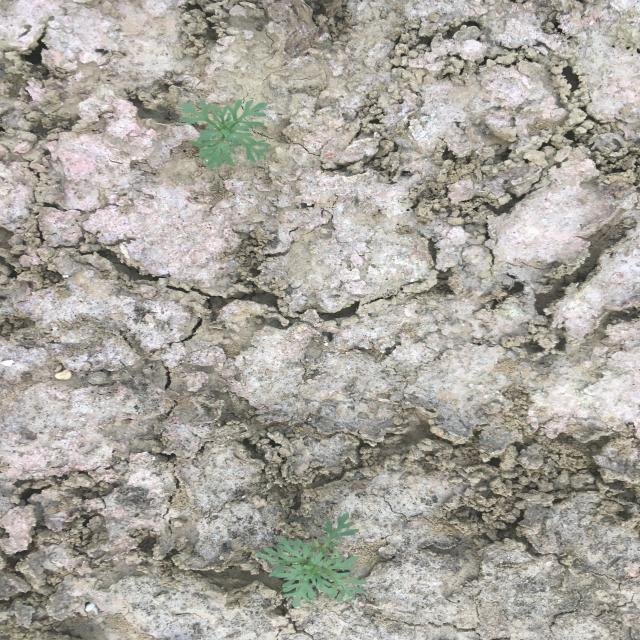Ragweed: (254, 513, 370, 610), (177, 96, 270, 170)
